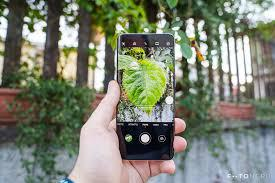Hand: (85, 90, 187, 183)
Smartphone: (116, 36, 176, 163)
